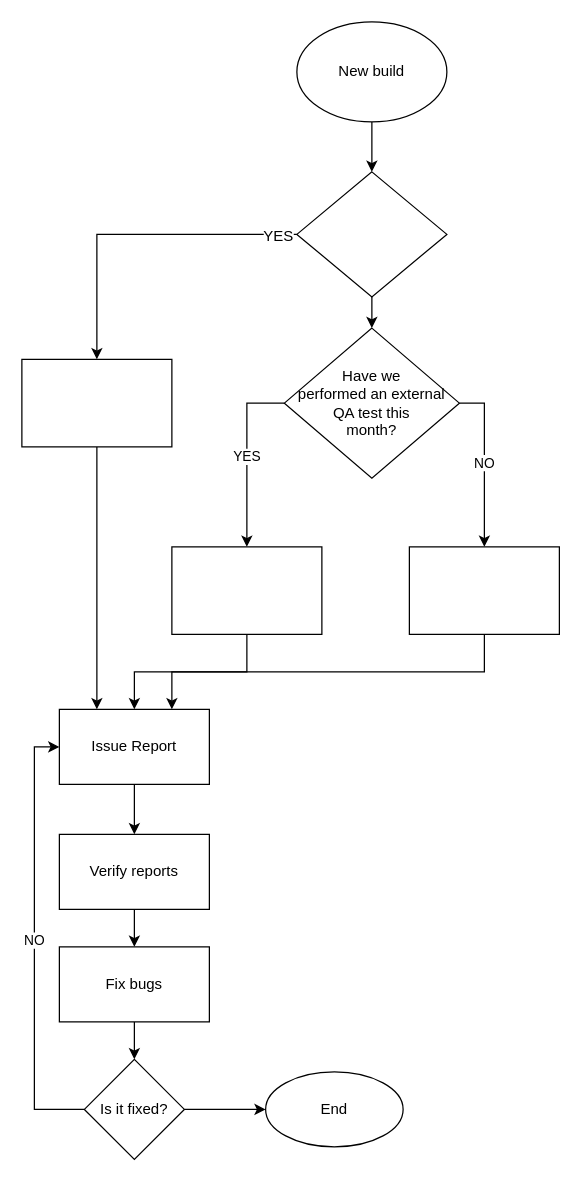
Some shapes in this 581 by 1181 pixel diagram are drawn without their labels. Each missing label, with the centre of its shape:
"External QA test" goes at (483,590).
"Internal QA test: Big Test" goes at (96,402).
"Internal QA test: Small Test" goes at (246,590).
"Week before milestone" goes at (371,234).
